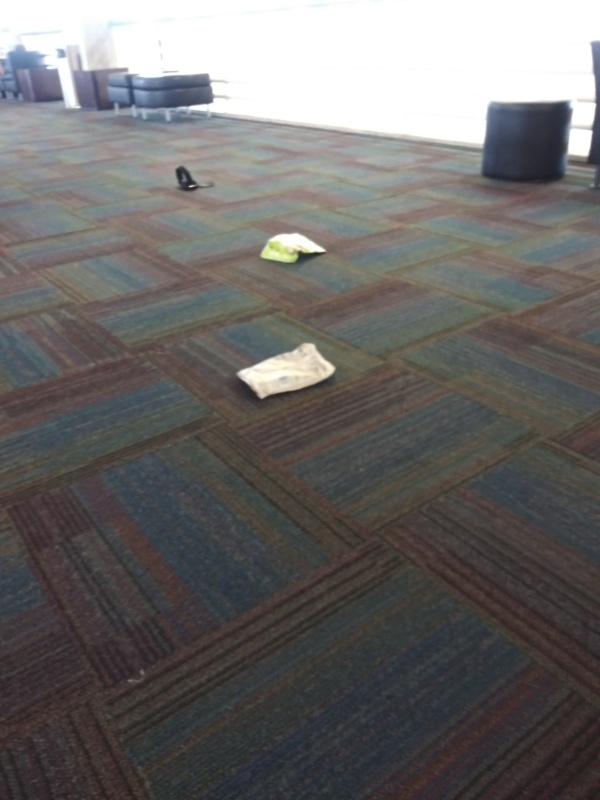bag: (233, 340, 341, 403), (255, 229, 334, 272)
